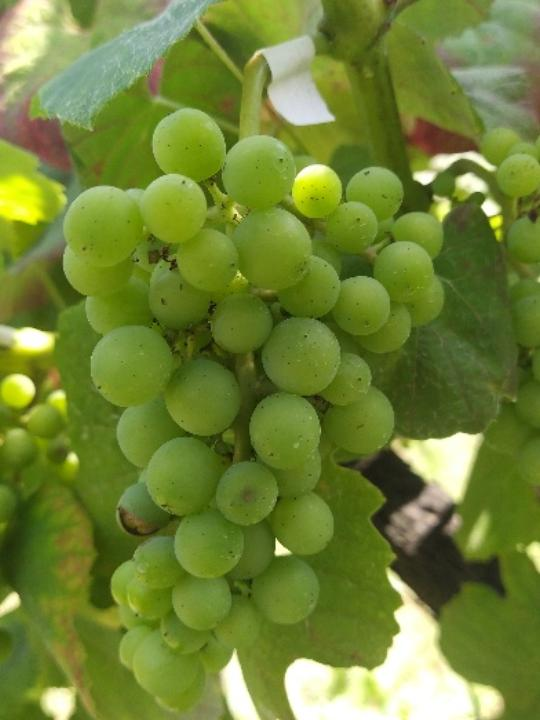grape: (59, 102, 449, 718)
